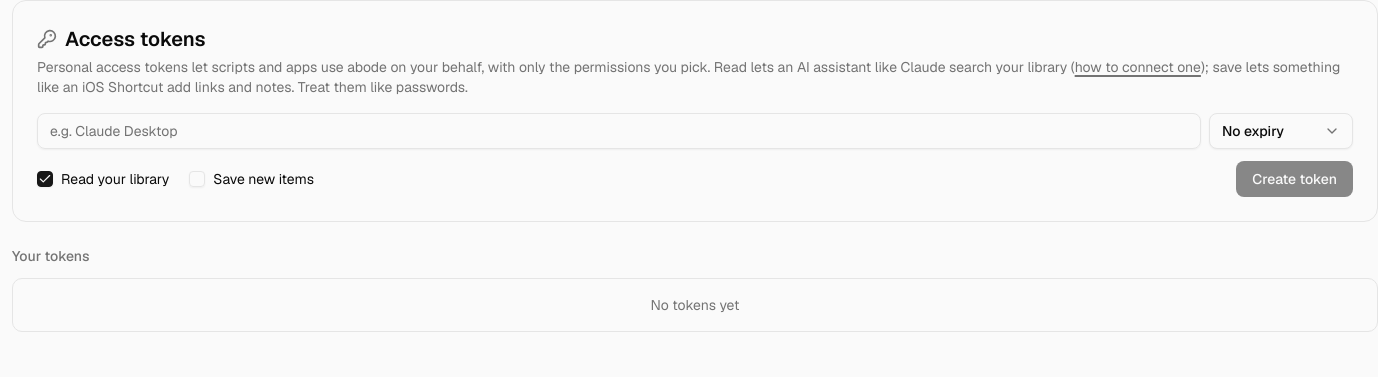
Test case: TokenSettings › can't create a token with no permissions
Type "Nothing" into the field with placeholder "e.g. Claude Desktop" at (619, 131), box [37,113,1201,149]
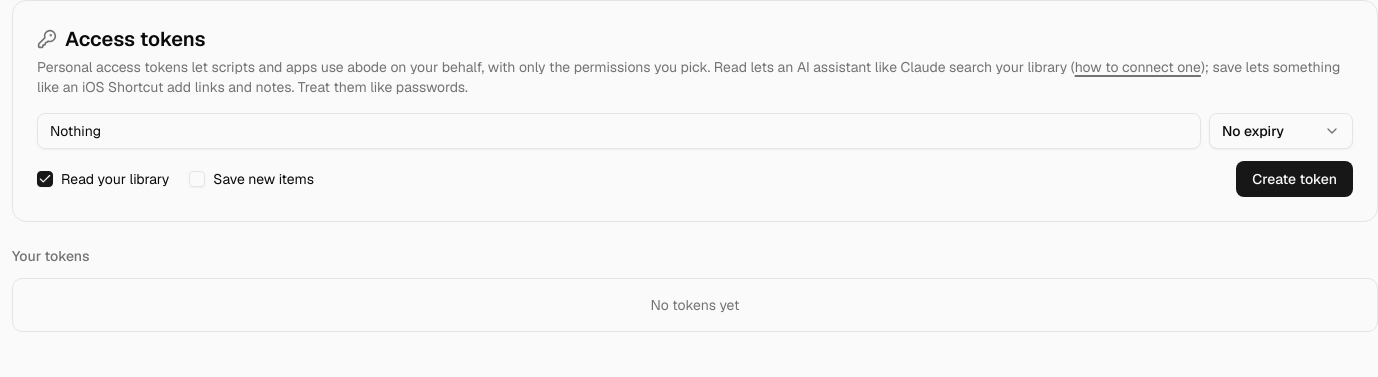
Click the checkbox named "Read your library" next to "Read your library" at (45, 179), box [37,171,53,187]
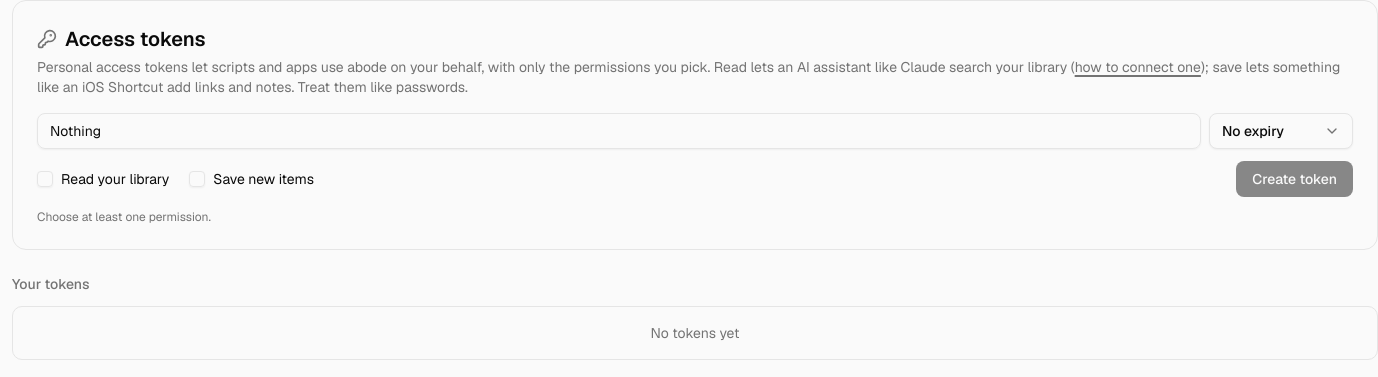
Expected: the button "Create token" is disabled, [1236,161,1353,197]
Expected: the text "Choose at least one permission." is shown, [37,209,211,225]
